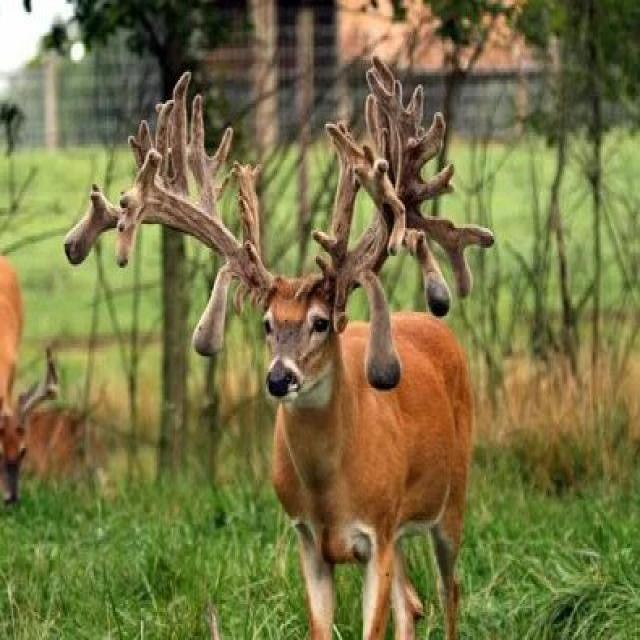deer: (61, 26, 517, 614)
